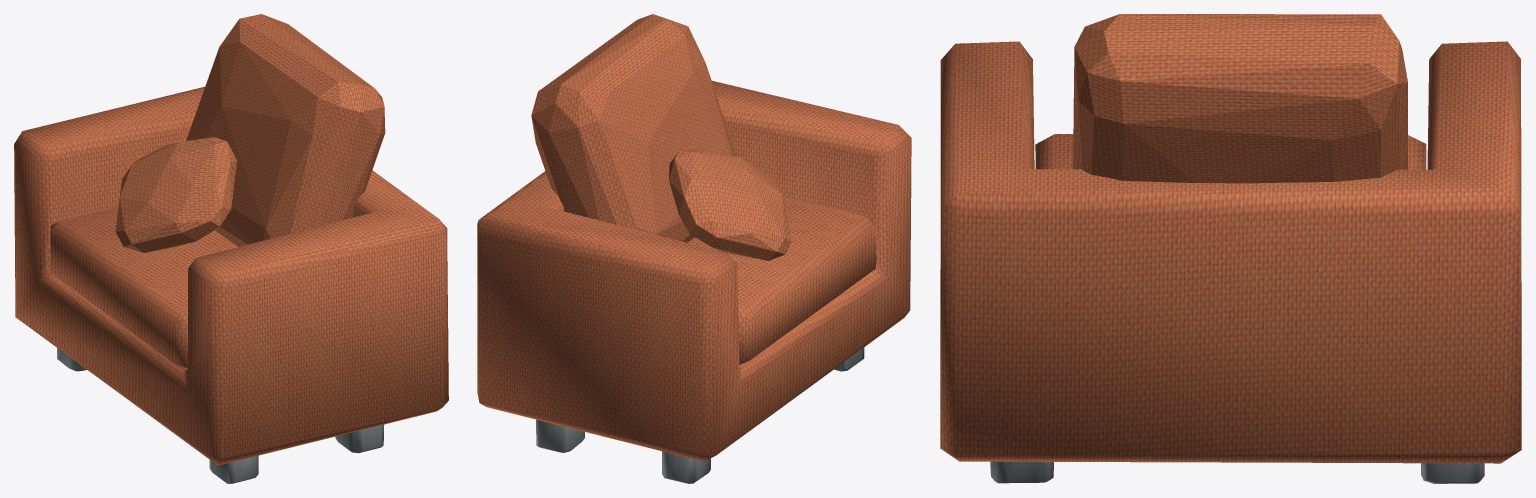
Rendered from SOFA_03.fbx.
The picture shows the model from 3 angles, left to right: view 1: azimuth 30°, elevation 25°; view 2: azimuth 150°, elevation 25°; view 3: azimuth 270°, elevation 25°; orthographic projection. The views are drawn at different scales.
Visible parts, largest first — view 1: SOFA_03; view 2: SOFA_03; view 3: SOFA_03.
Boxes of the visible parts, x1,y1,x2,y2 form: SOFA_03: (14,14,448,483); SOFA_03: (477,14,911,483); SOFA_03: (940,14,1521,483).
Size of the model in its own units: 102 by 136 by 152.
